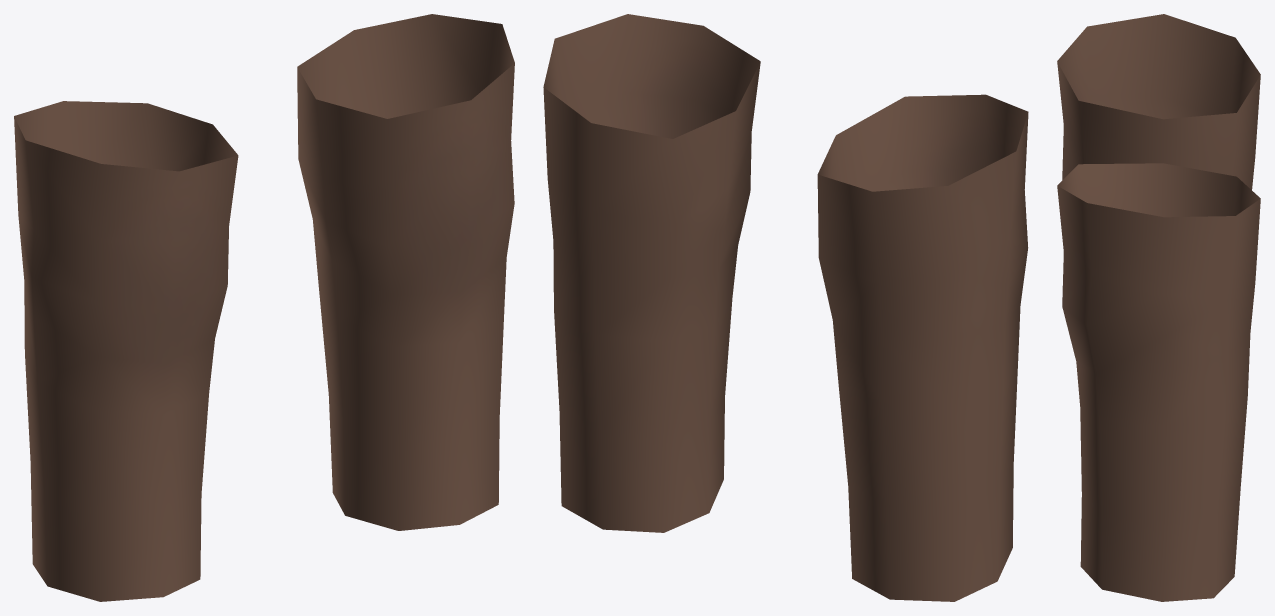
The model's file is Body_Black_LegB_2.fbx.
The picture shows the model from 3 angles, left to right: view 1: azimuth 30°, elevation 25°; view 2: azimuth 150°, elevation 25°; view 3: azimuth 270°, elevation 25°; orthographic projection. The views are drawn at different scales.
Parts seen in each view (by area): view 1: Body_Black_LegB_2; view 2: Body_Black_LegB_2; view 3: Body_Black_LegB_2.
Boxes of the visible parts, <box> form: Body_Black_LegB_2: <box>14,14,514,601</box>; Body_Black_LegB_2: <box>543,14,1028,601</box>; Body_Black_LegB_2: <box>1057,14,1260,601</box>.
Bounding box in the file's own units: 32.69 × 29.91 × 13.84.
